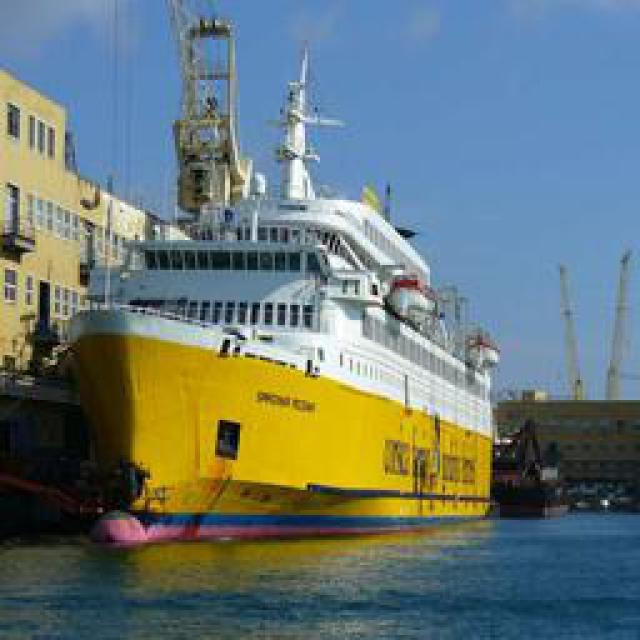Ship: (65, 24, 505, 554)
